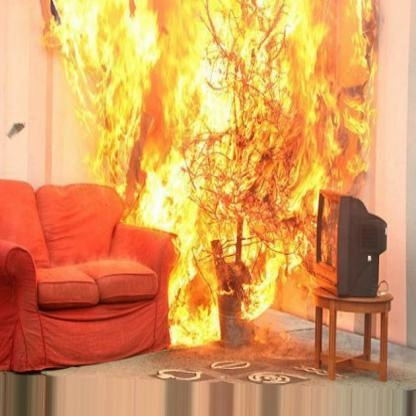fire: (44, 0, 384, 375)
